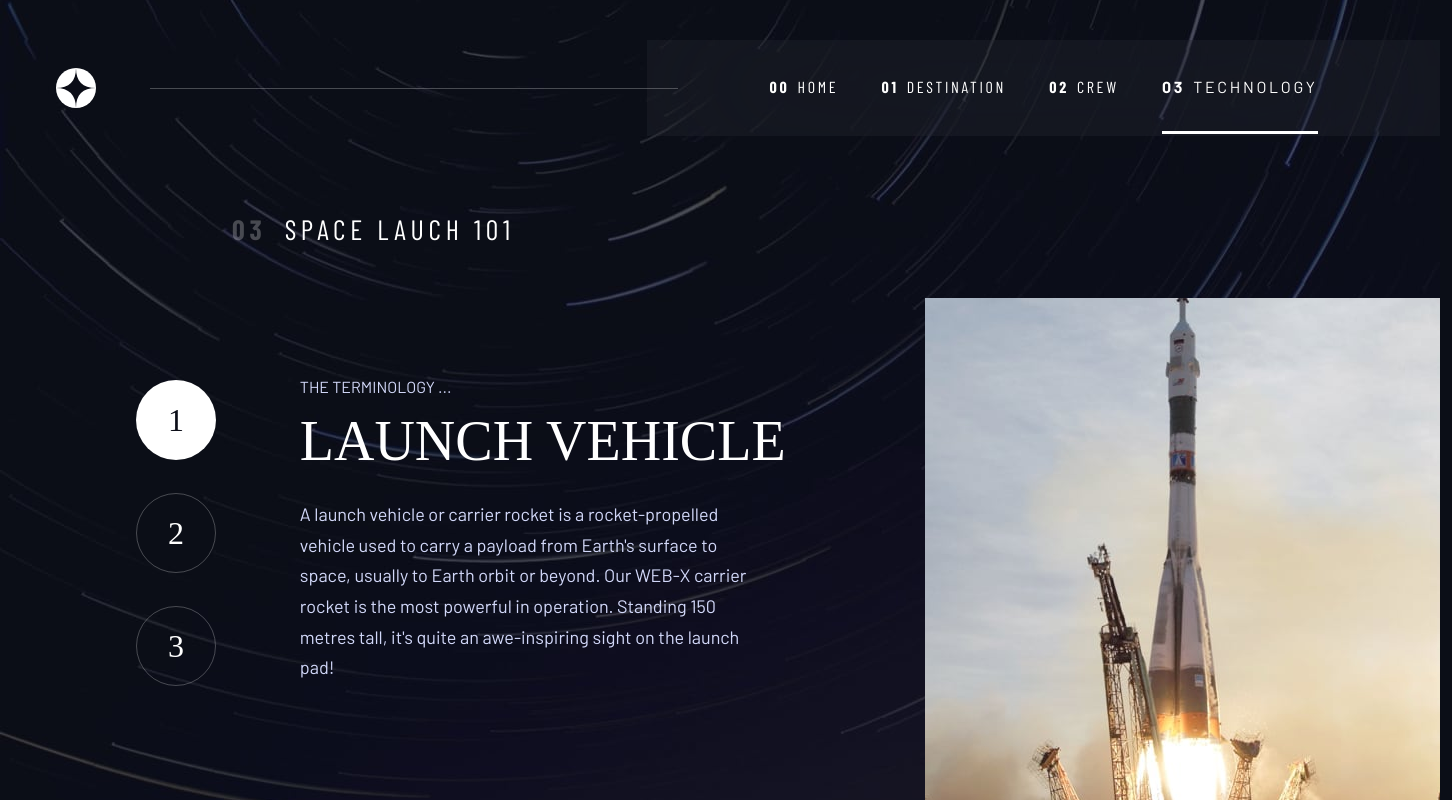
Test: Technology Page › Button 2 can be clicked
This screenshot has width=1452, height=800.
Click the tab with class "transparent" showing "2". click: [176, 533]
box: [136, 493, 216, 573]
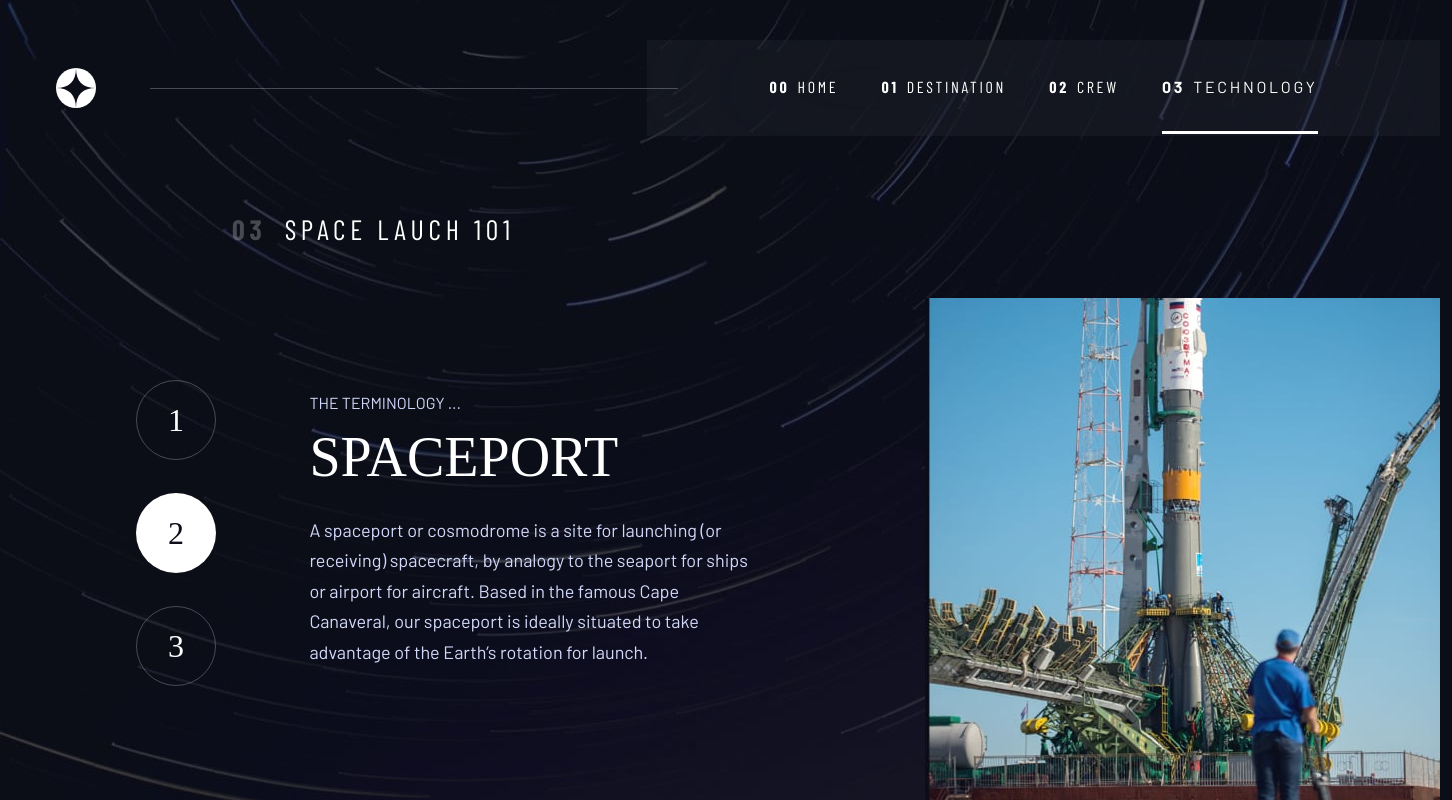
Result: the heading "Spaceport" is shown at [309, 426, 618, 488]
